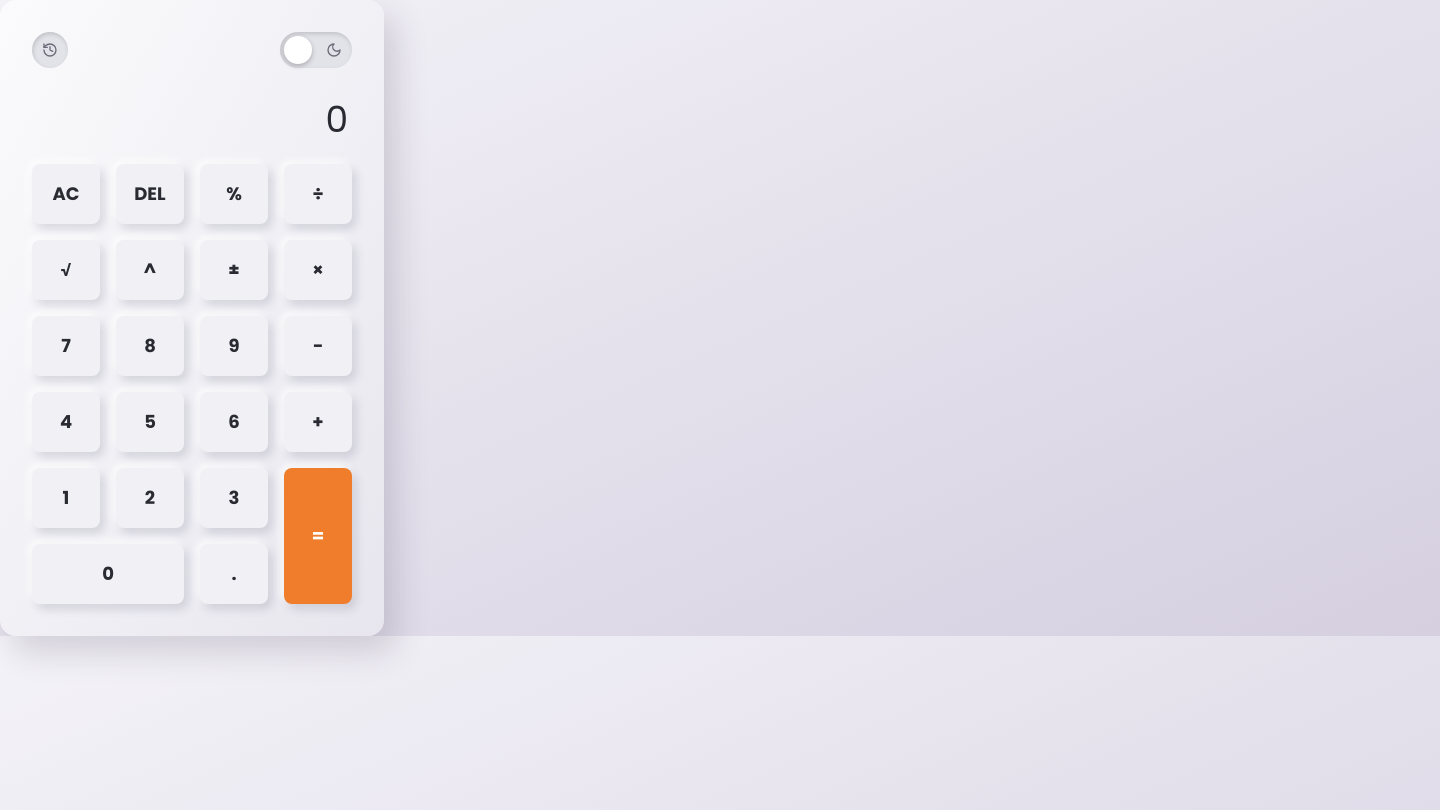
Test: Calculator › entering a number › starts "." with a leading zero
Click the button named "Decimal point": (234, 574) [200,544,268,604]
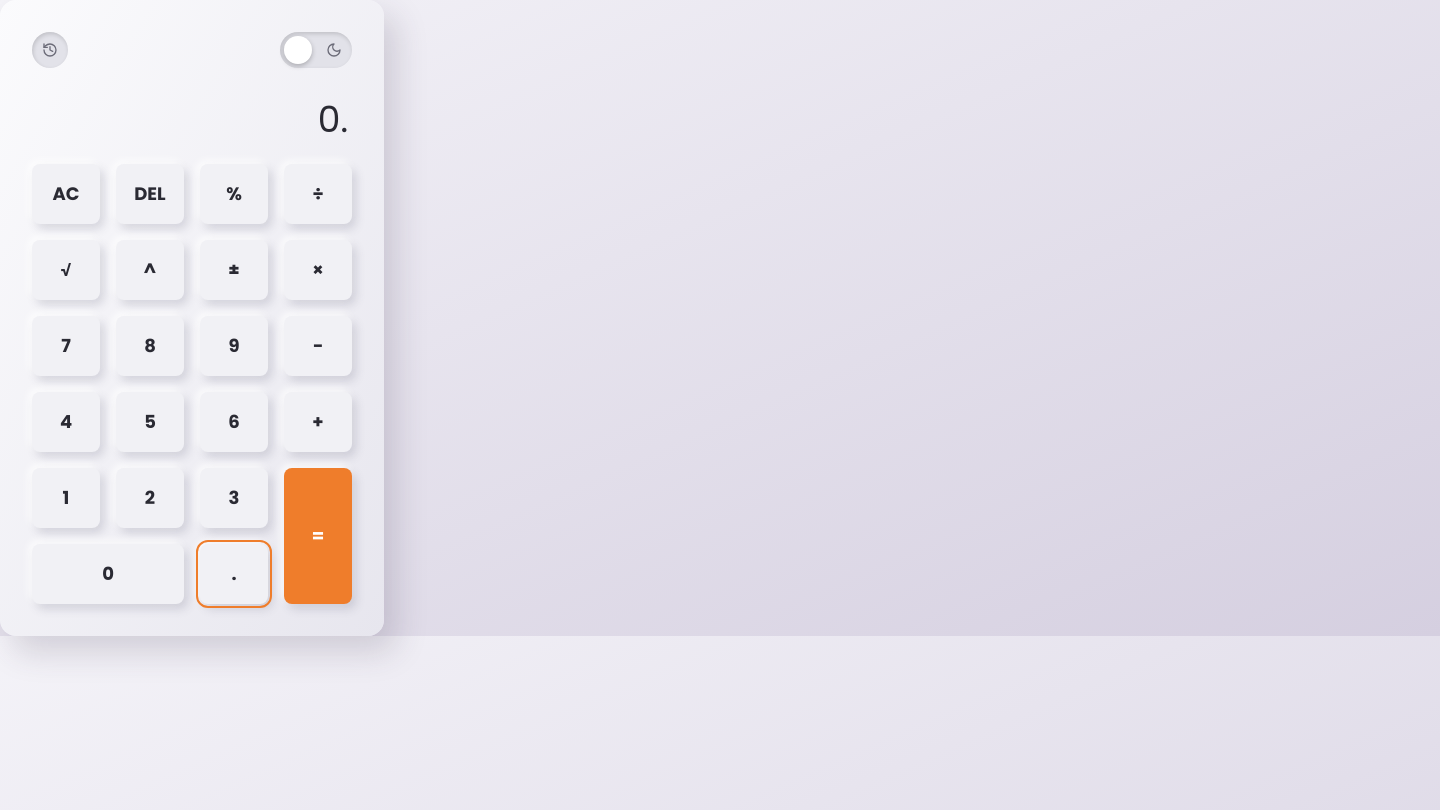
Click the button "5": (150, 422) [116,392,184,452]
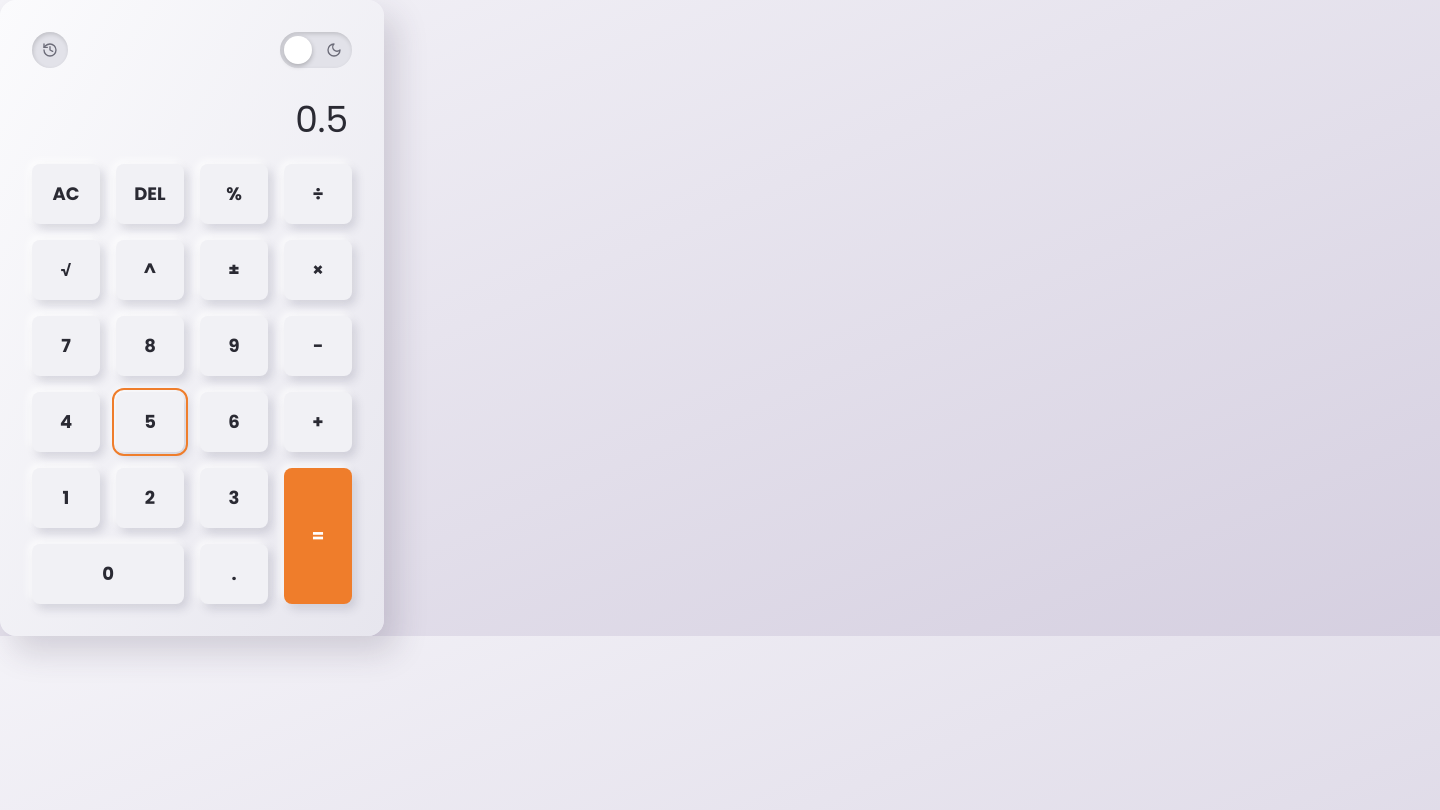
Expected: the text "0.5" is shown, [295,100,348,140]
